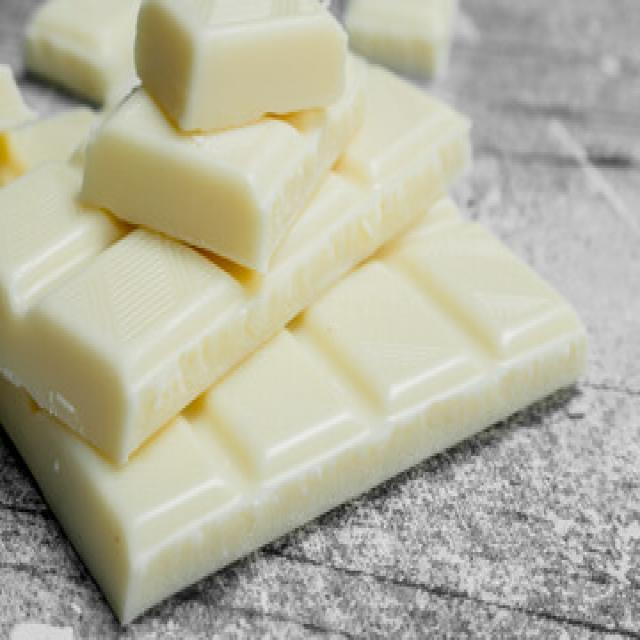Chocolate: (0, 0, 585, 631), (0, 0, 472, 461)
